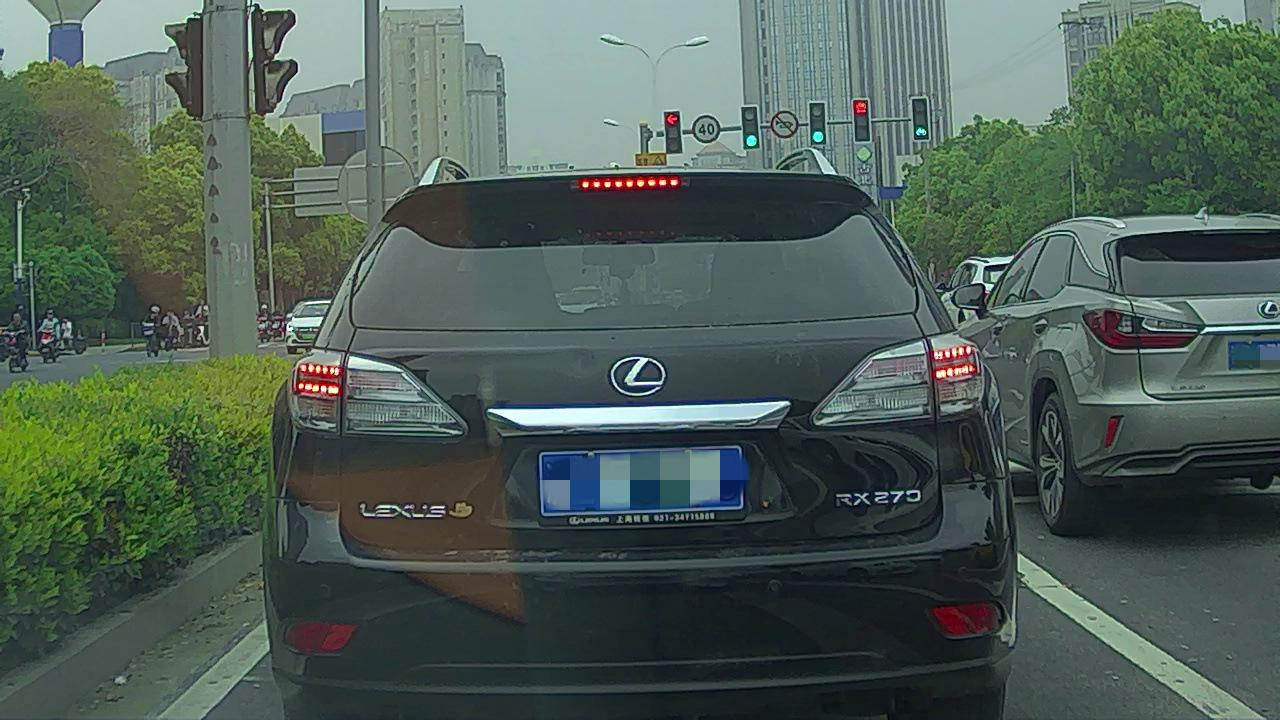traffic_light: (912, 98, 930, 141), (664, 111, 681, 156), (854, 99, 871, 142), (809, 101, 825, 145), (742, 107, 757, 149)
